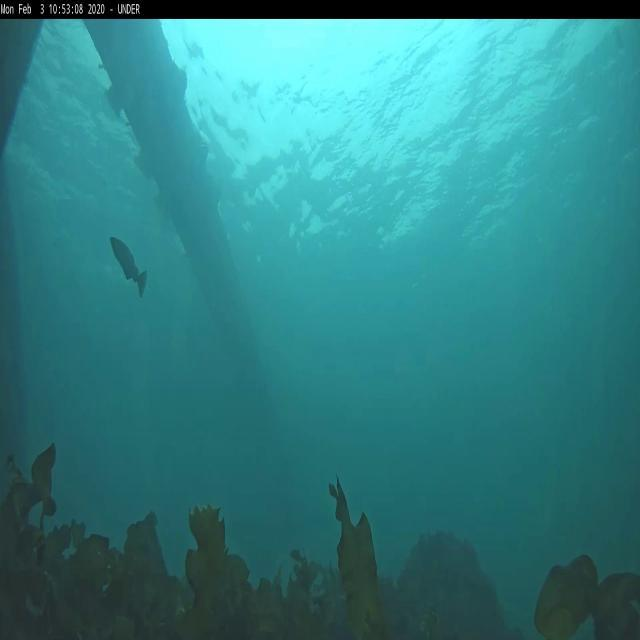fish: (108, 234, 148, 302)
